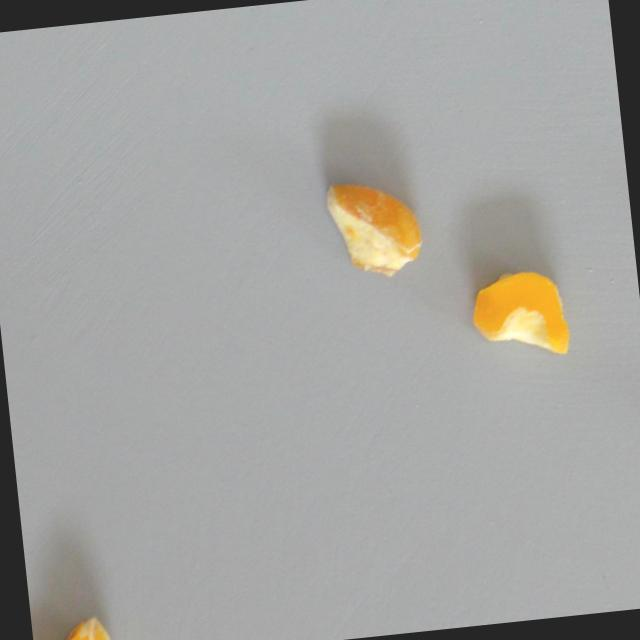pelicula: (321, 174, 427, 282), (468, 264, 573, 364), (30, 608, 113, 640)
